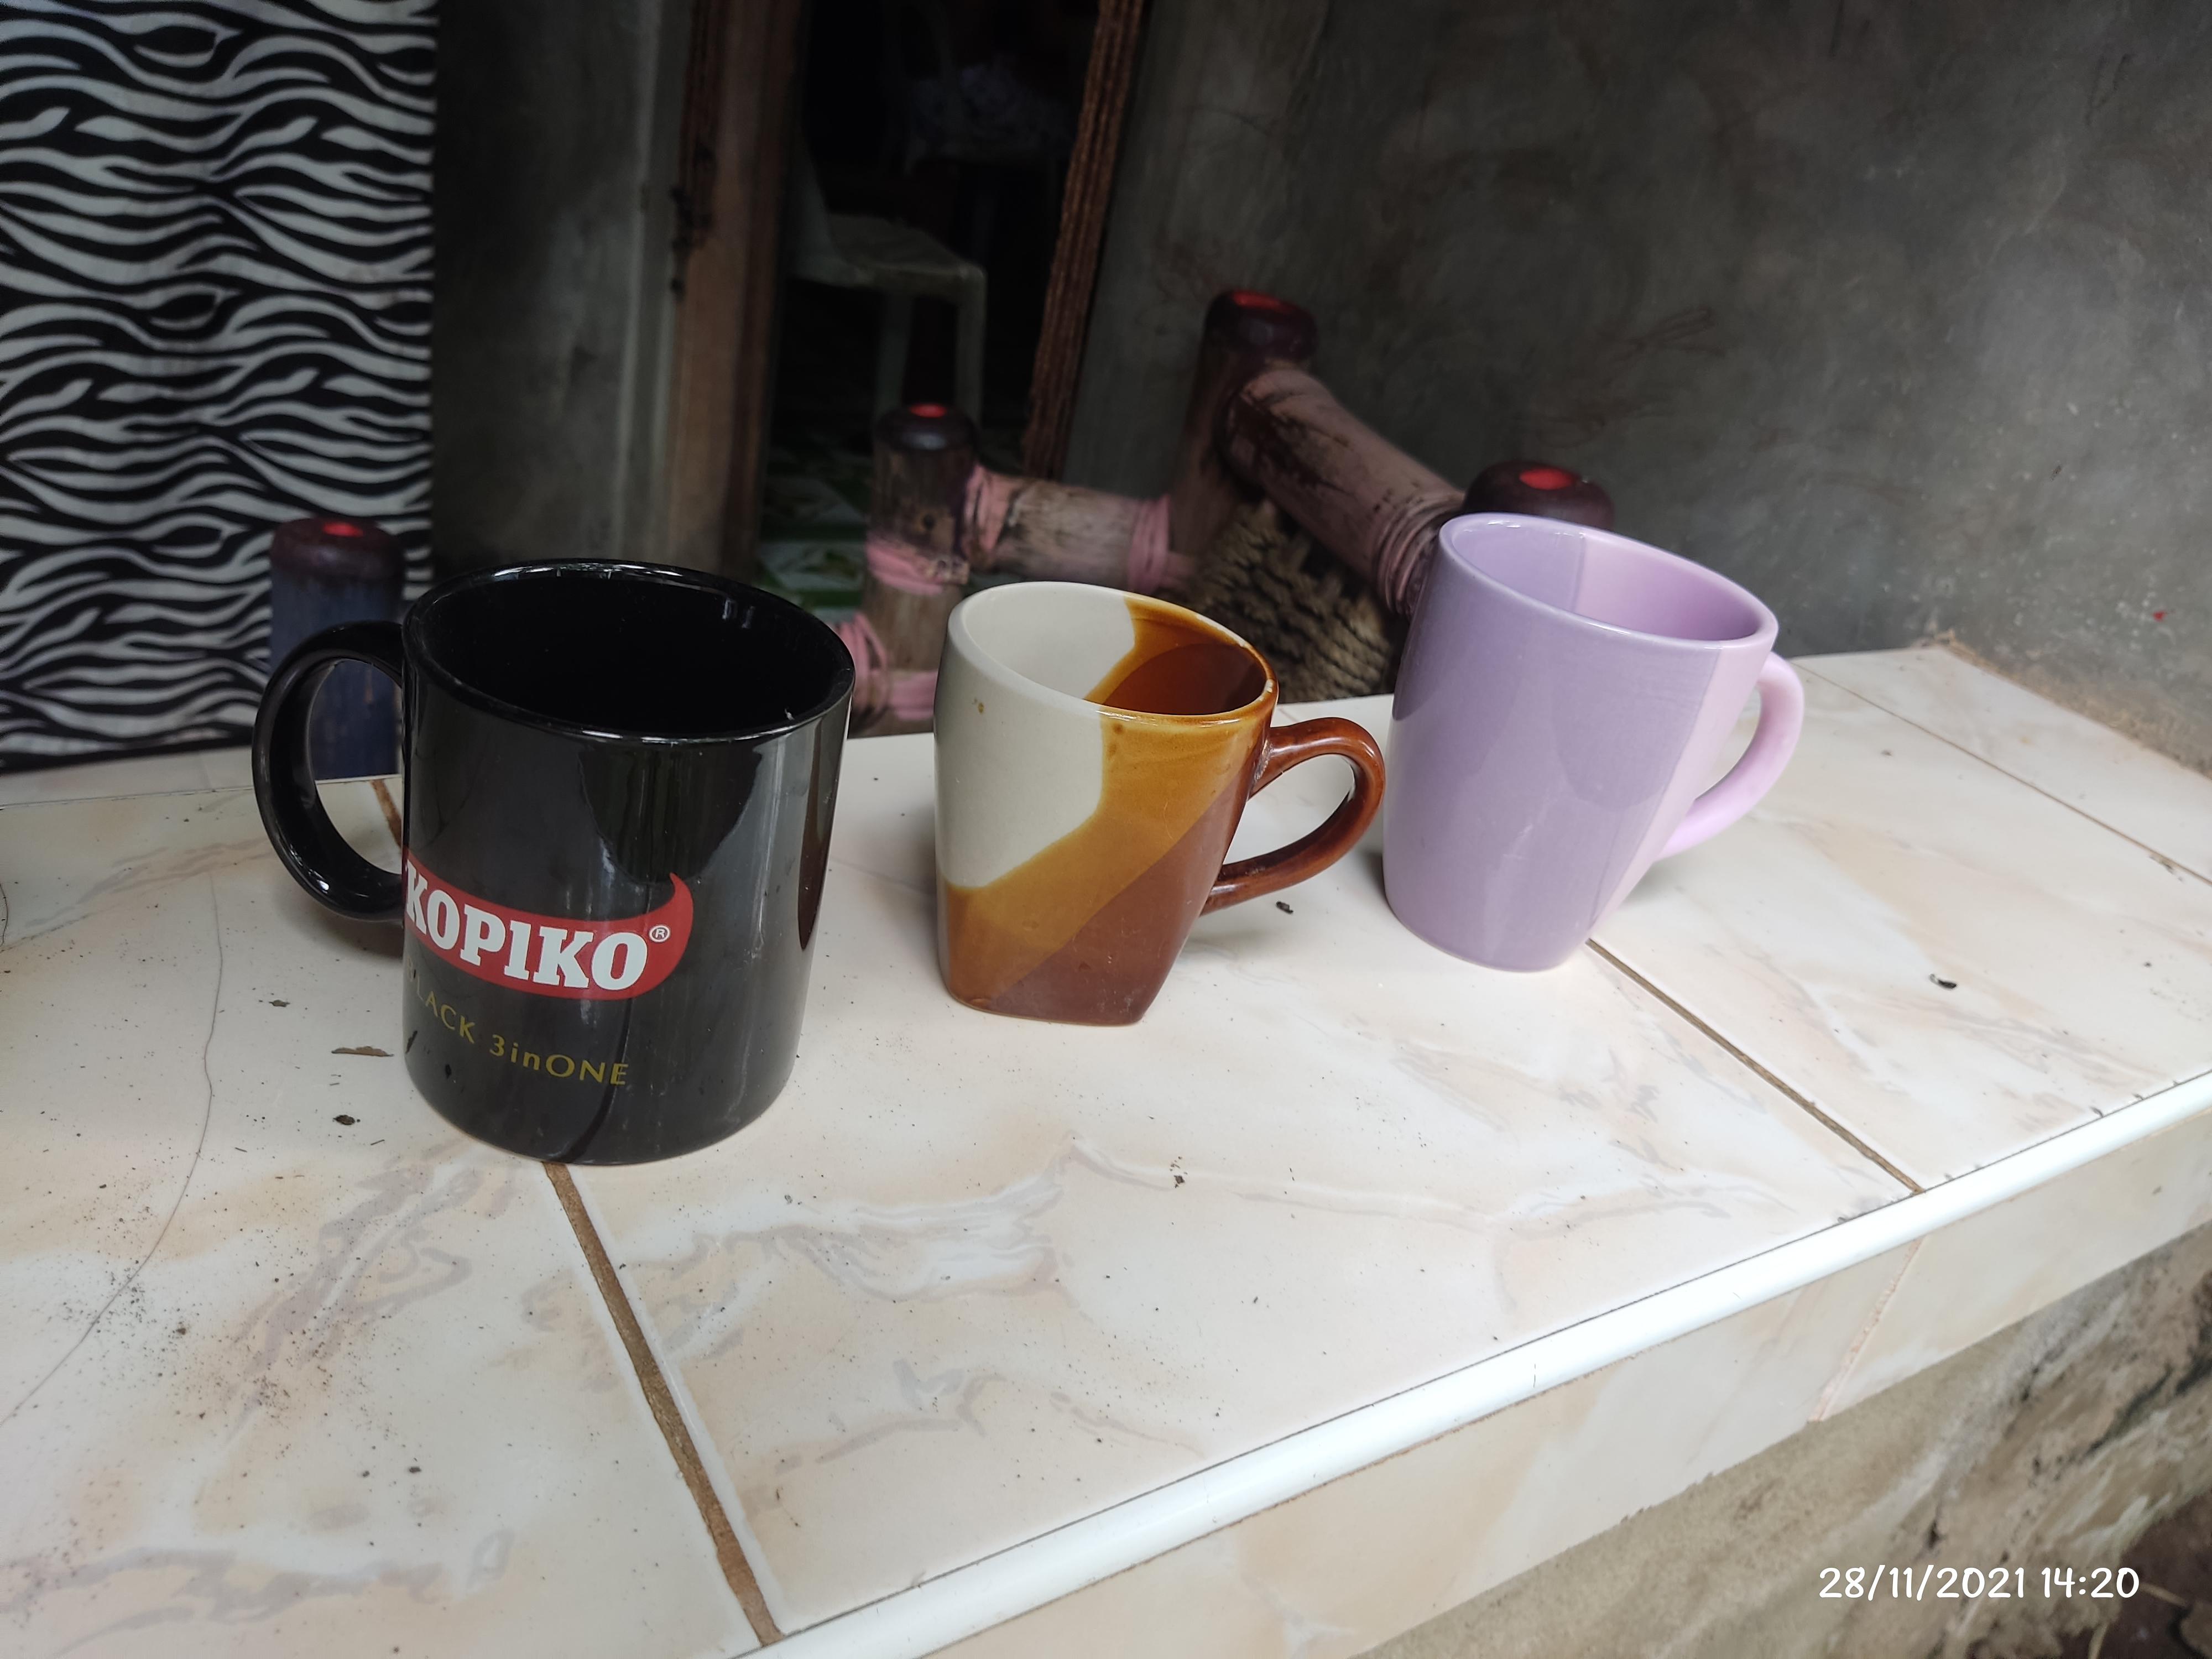mug: (261, 552, 859, 1166), (934, 570, 1378, 1023), (1388, 512, 1801, 971)
